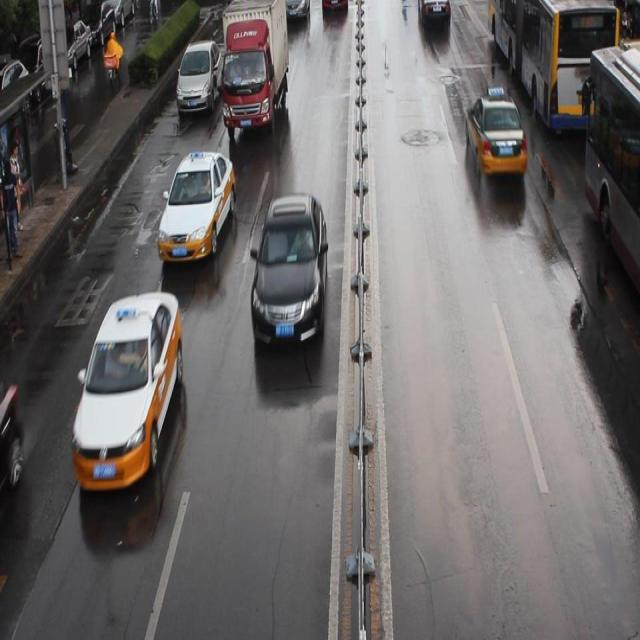bus: (221, 1, 290, 128)
car: (70, 290, 183, 491), (249, 193, 327, 350), (157, 150, 236, 264), (464, 92, 528, 178), (176, 38, 223, 116), (220, 1, 272, 23), (417, 1, 449, 24), (279, 1, 310, 19), (321, 1, 348, 12)
van: (486, 1, 617, 133), (581, 40, 640, 298)
